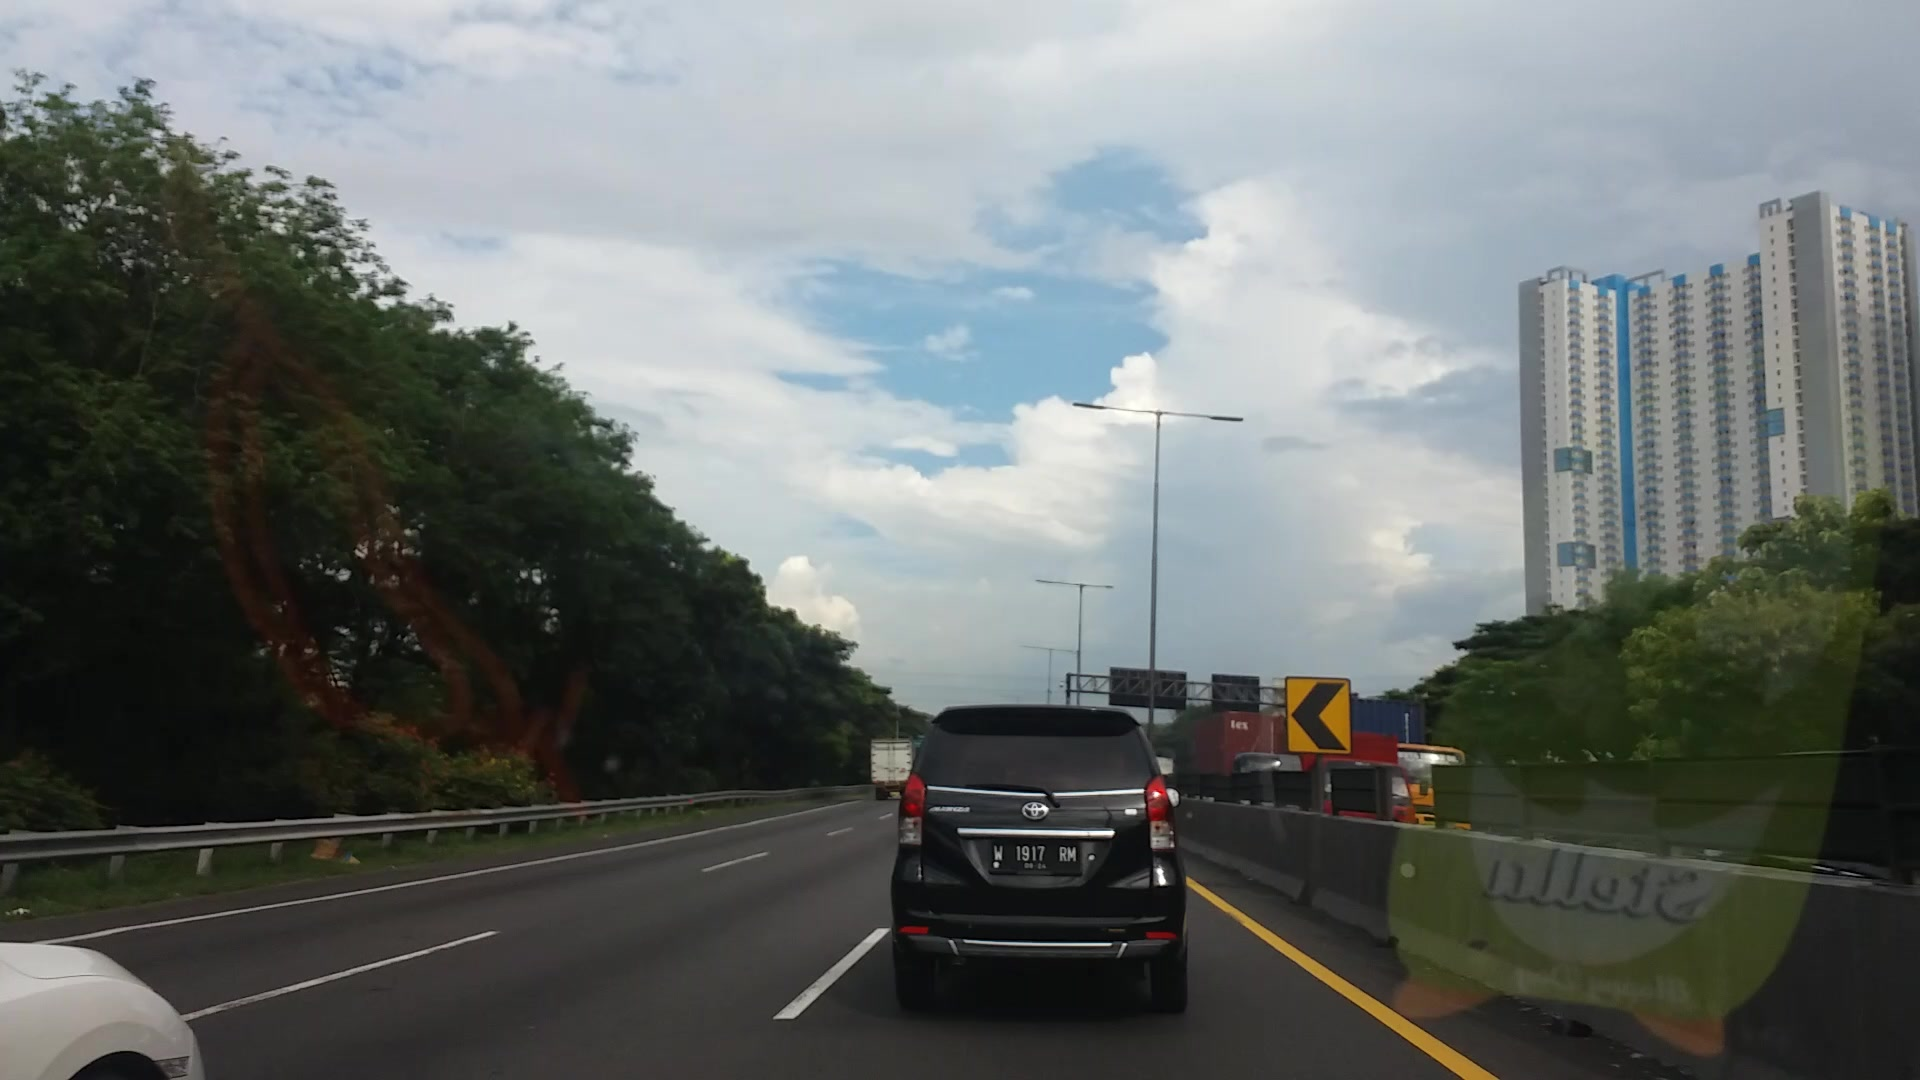plate_positive: (990, 841, 1079, 872)
